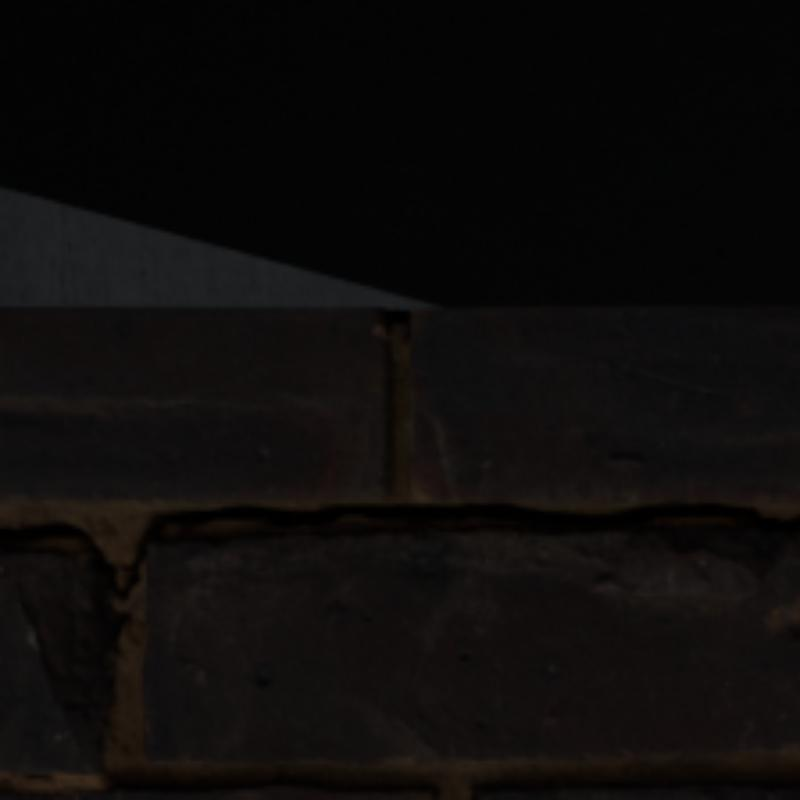pothole: (0, 500, 796, 600)
